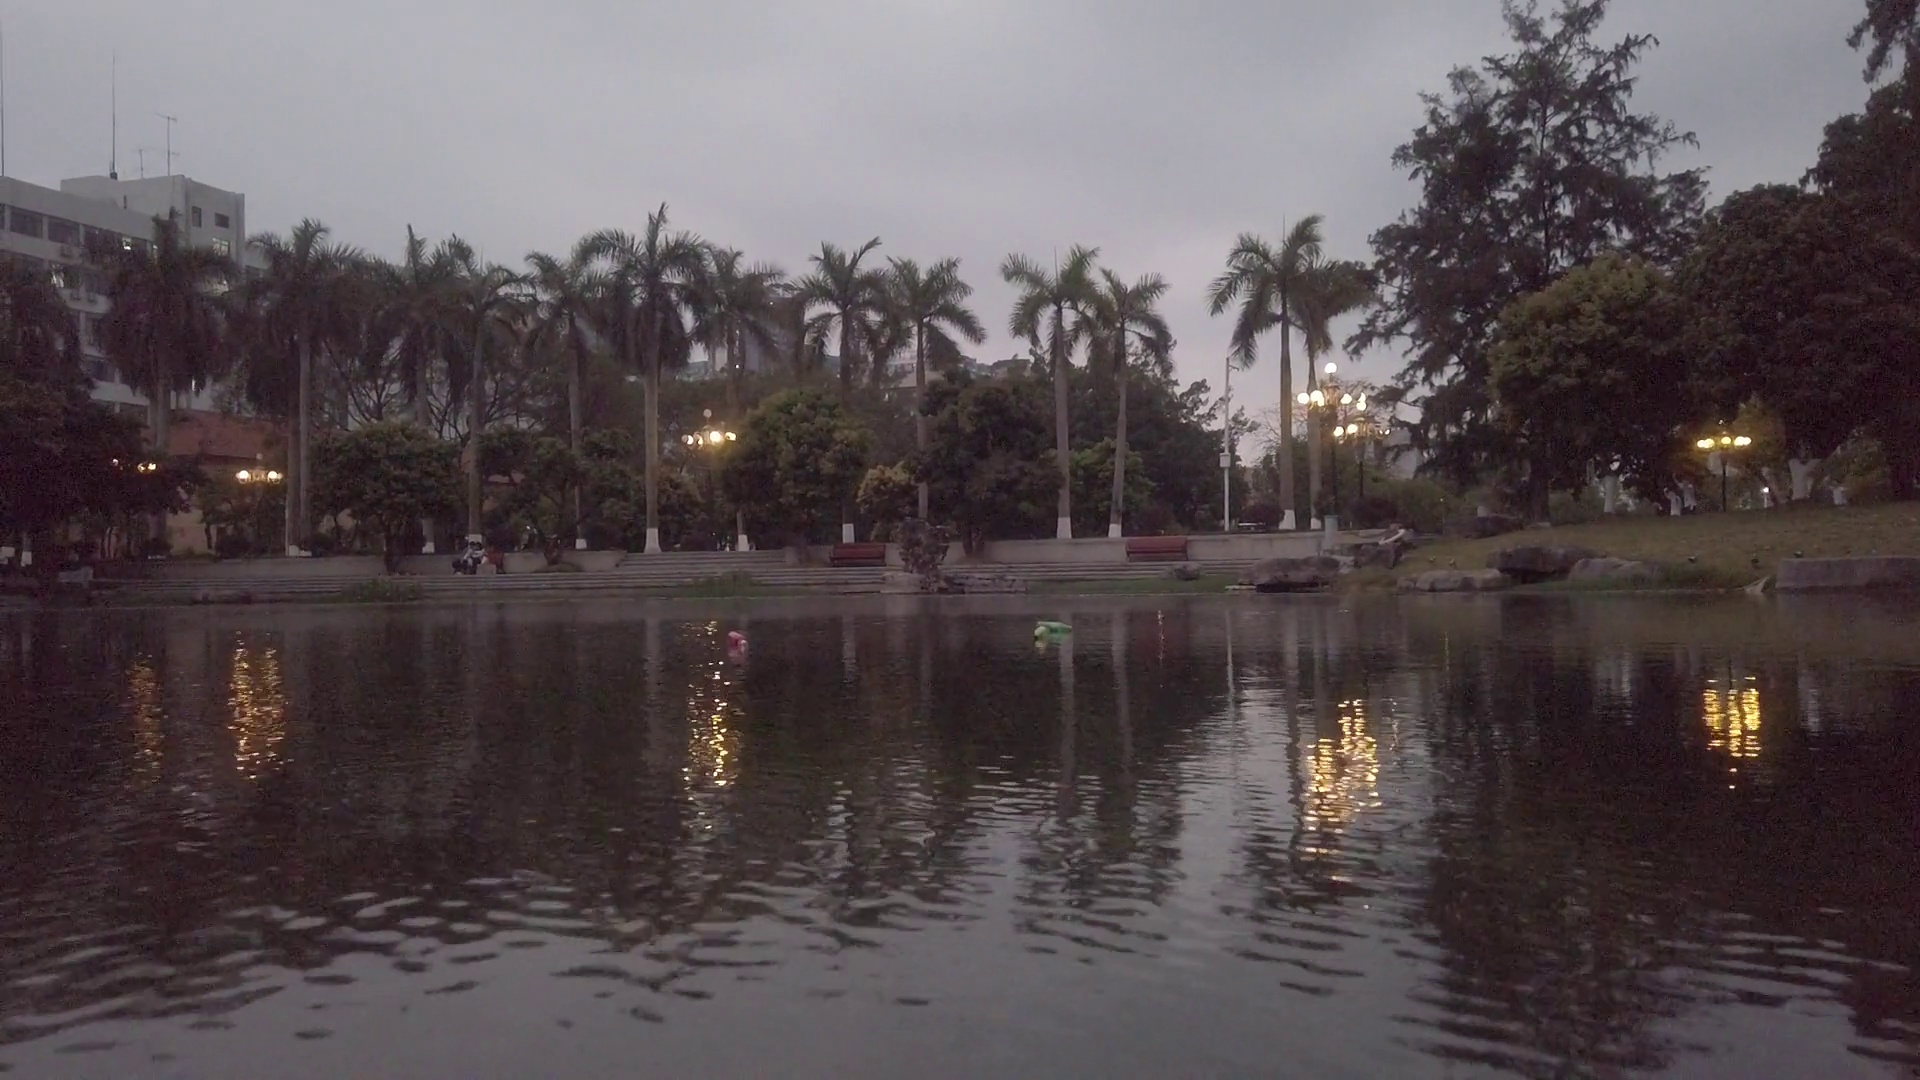bottle: (1036, 618, 1073, 634), (729, 629, 748, 649), (1034, 624, 1048, 641)
